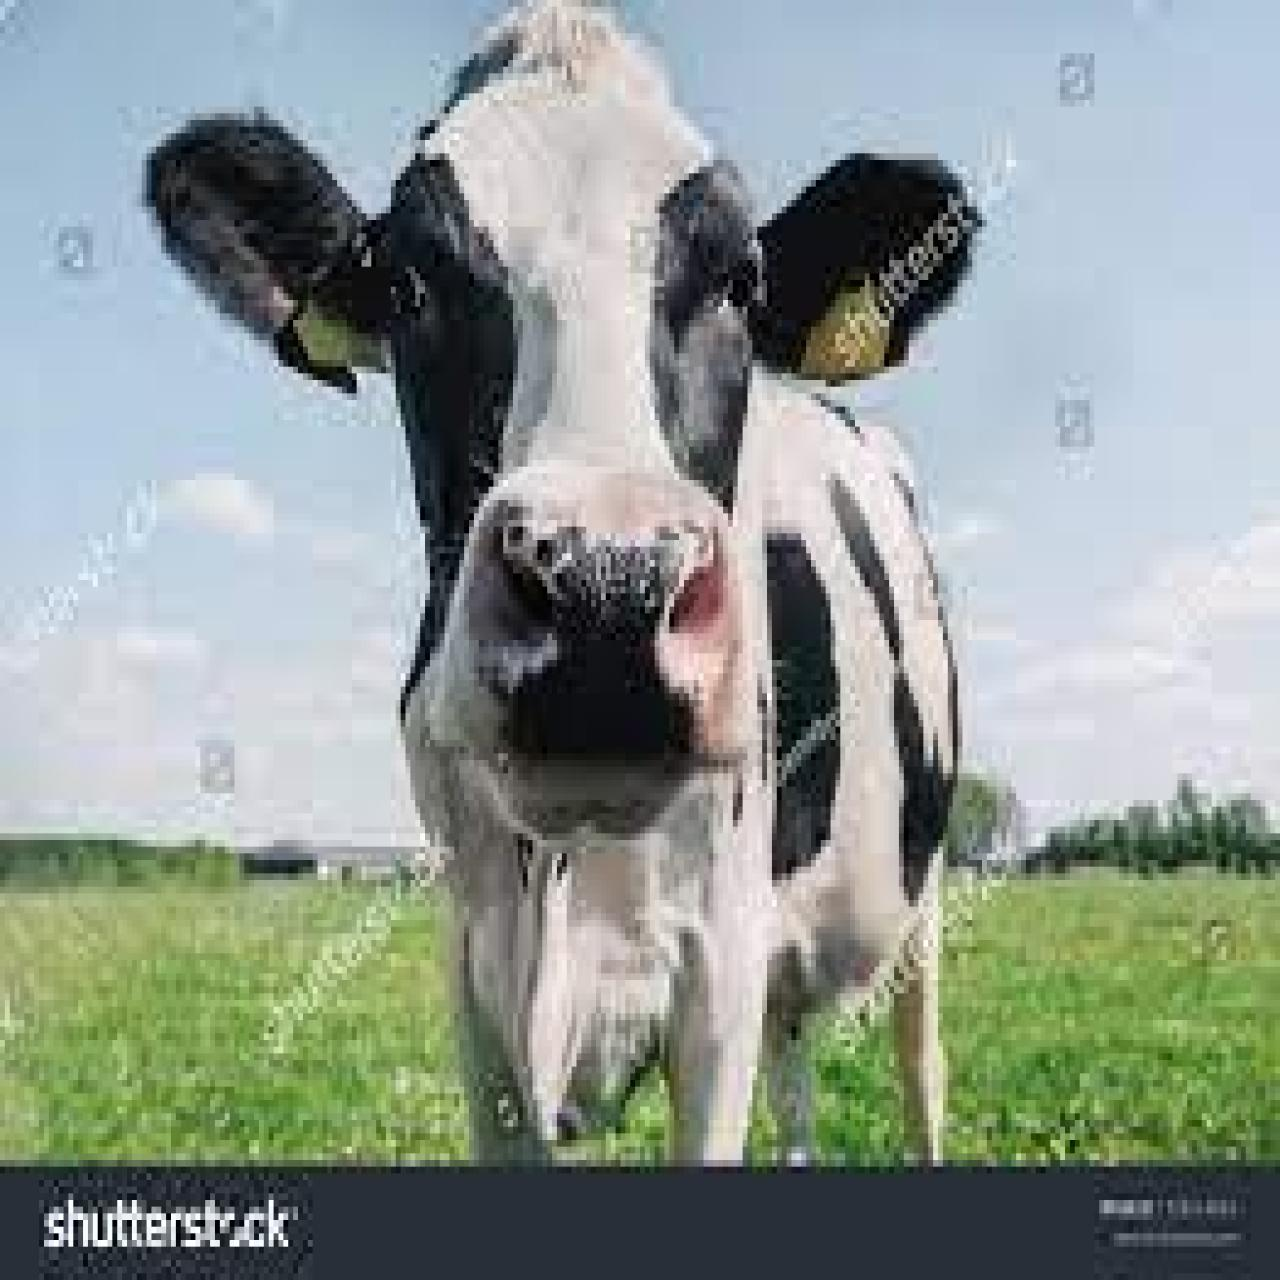cow: (142, 0, 987, 1160)
